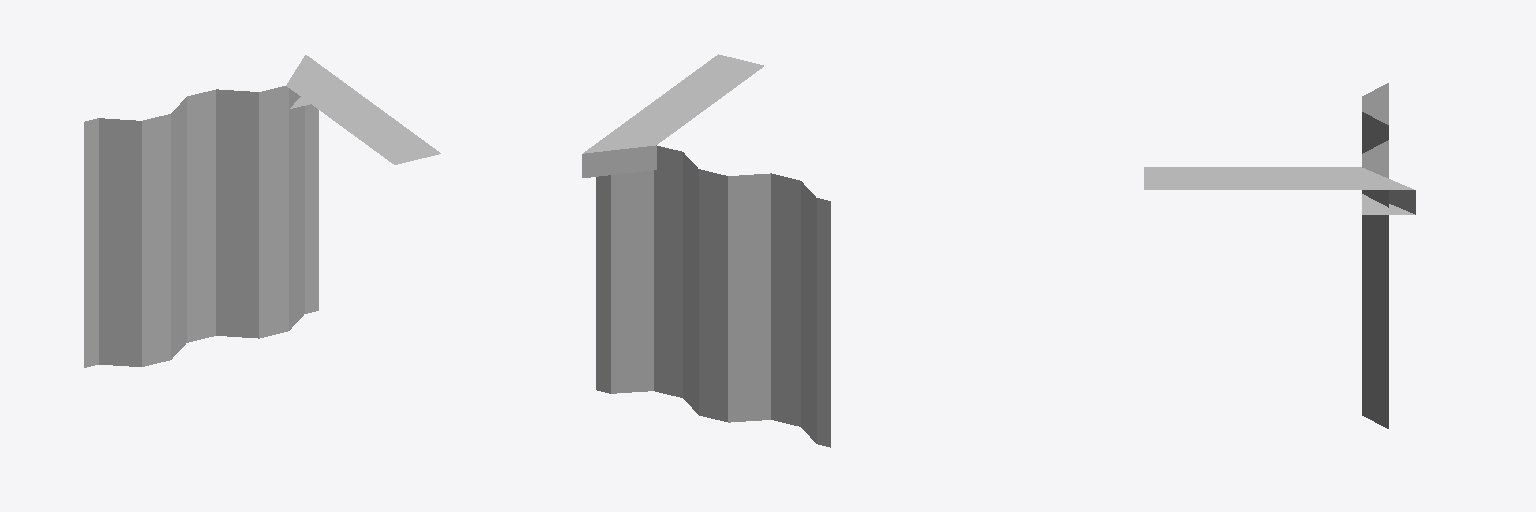
The model's file is Straight_Edge_Wall_Roof_Left.obj.
3 views of the same model, side by side, from view 1: azimuth 30°, elevation 25°; view 2: azimuth 150°, elevation 25°; view 3: azimuth 270°, elevation 25° (orthographic).
Visible parts, largest first — view 1: Straight_Edge_Wall_Roof_Left; view 2: Straight_Edge_Wall_Roof_Left; view 3: Straight_Edge_Wall_Roof_Left.
Part boxes in pixels (left/top/right/bottom): Straight_Edge_Wall_Roof_Left: left=84, top=55, right=440, bottom=367; Straight_Edge_Wall_Roof_Left: left=582, top=54, right=830, bottom=447; Straight_Edge_Wall_Roof_Left: left=1144, top=83, right=1415, bottom=428.
Bounding box in the file's own units: 1 × 1 × 1.